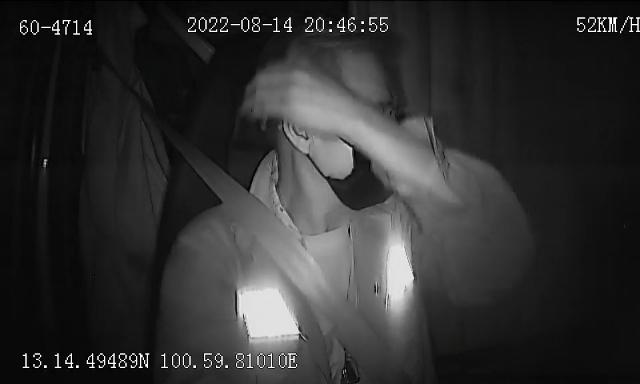Seatbelt: (178, 130, 400, 384)
